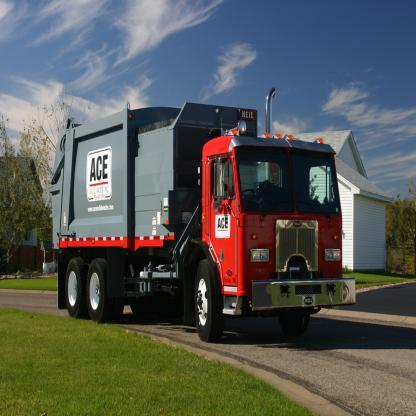truck: (62, 106, 350, 347)
